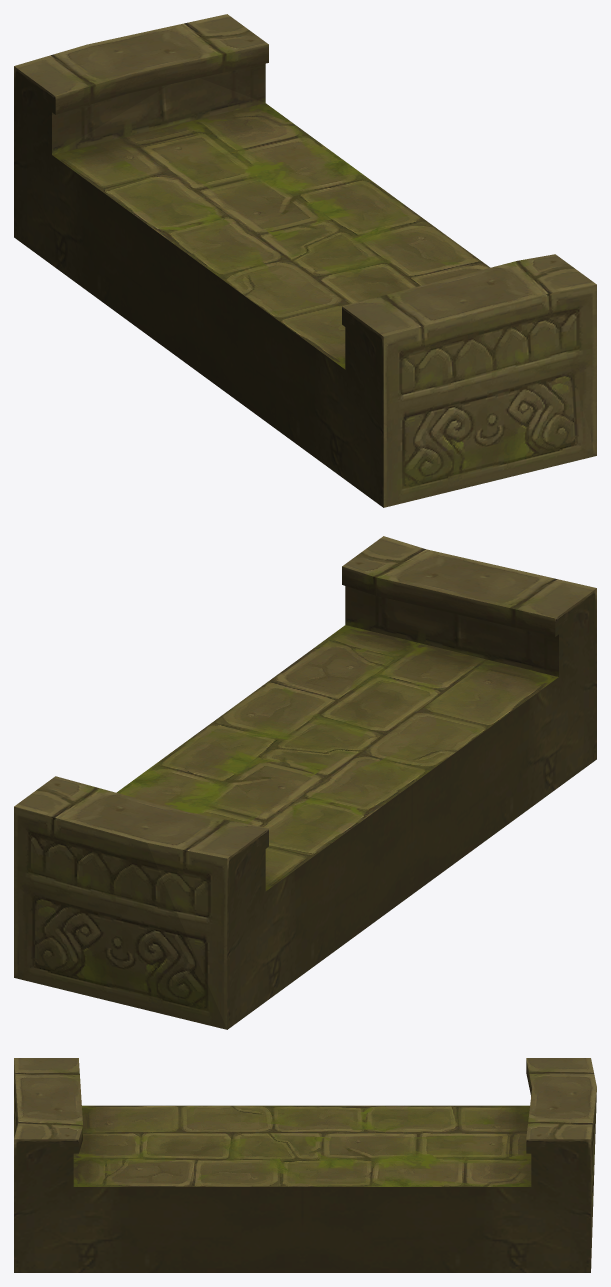
Rendered from stone_bridge_02.fbx.
The picture shows the model from 3 angles, top to bottom: view 1: azimuth 30°, elevation 25°; view 2: azimuth 150°, elevation 25°; view 3: azimuth 270°, elevation 25°; orthographic projection. The views are drawn at different scales.
Parts seen in each view (by area): view 1: obj2.002; view 2: obj2.002; view 3: obj2.002.
Part boxes in pixels (x1,y1,x2,y2): obj2.002: [14, 14, 596, 507]; obj2.002: [14, 536, 596, 1029]; obj2.002: [14, 1058, 596, 1272].
Bounding box in the file's own units: 2 × 1.53 × 6.06.
